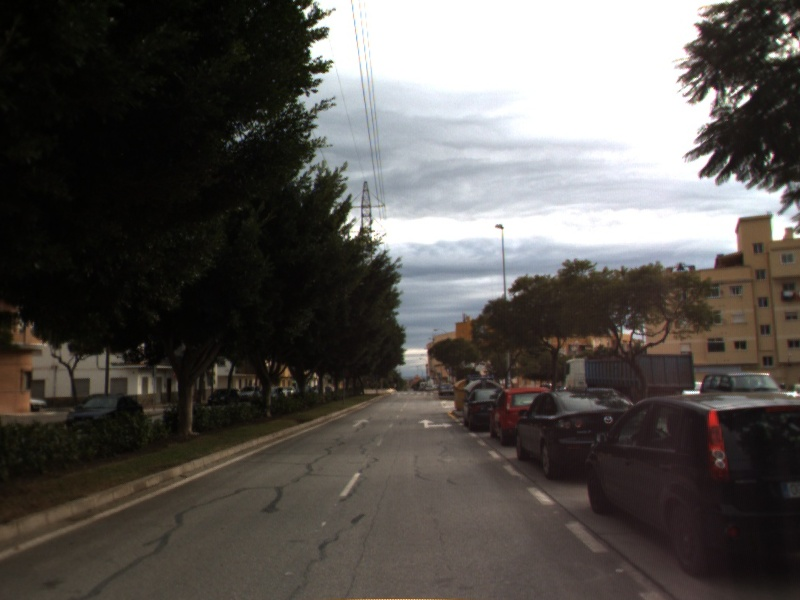STRAIGHT: (349, 416, 372, 429)
STRAIGHT_RIGHT: (415, 417, 455, 430)
